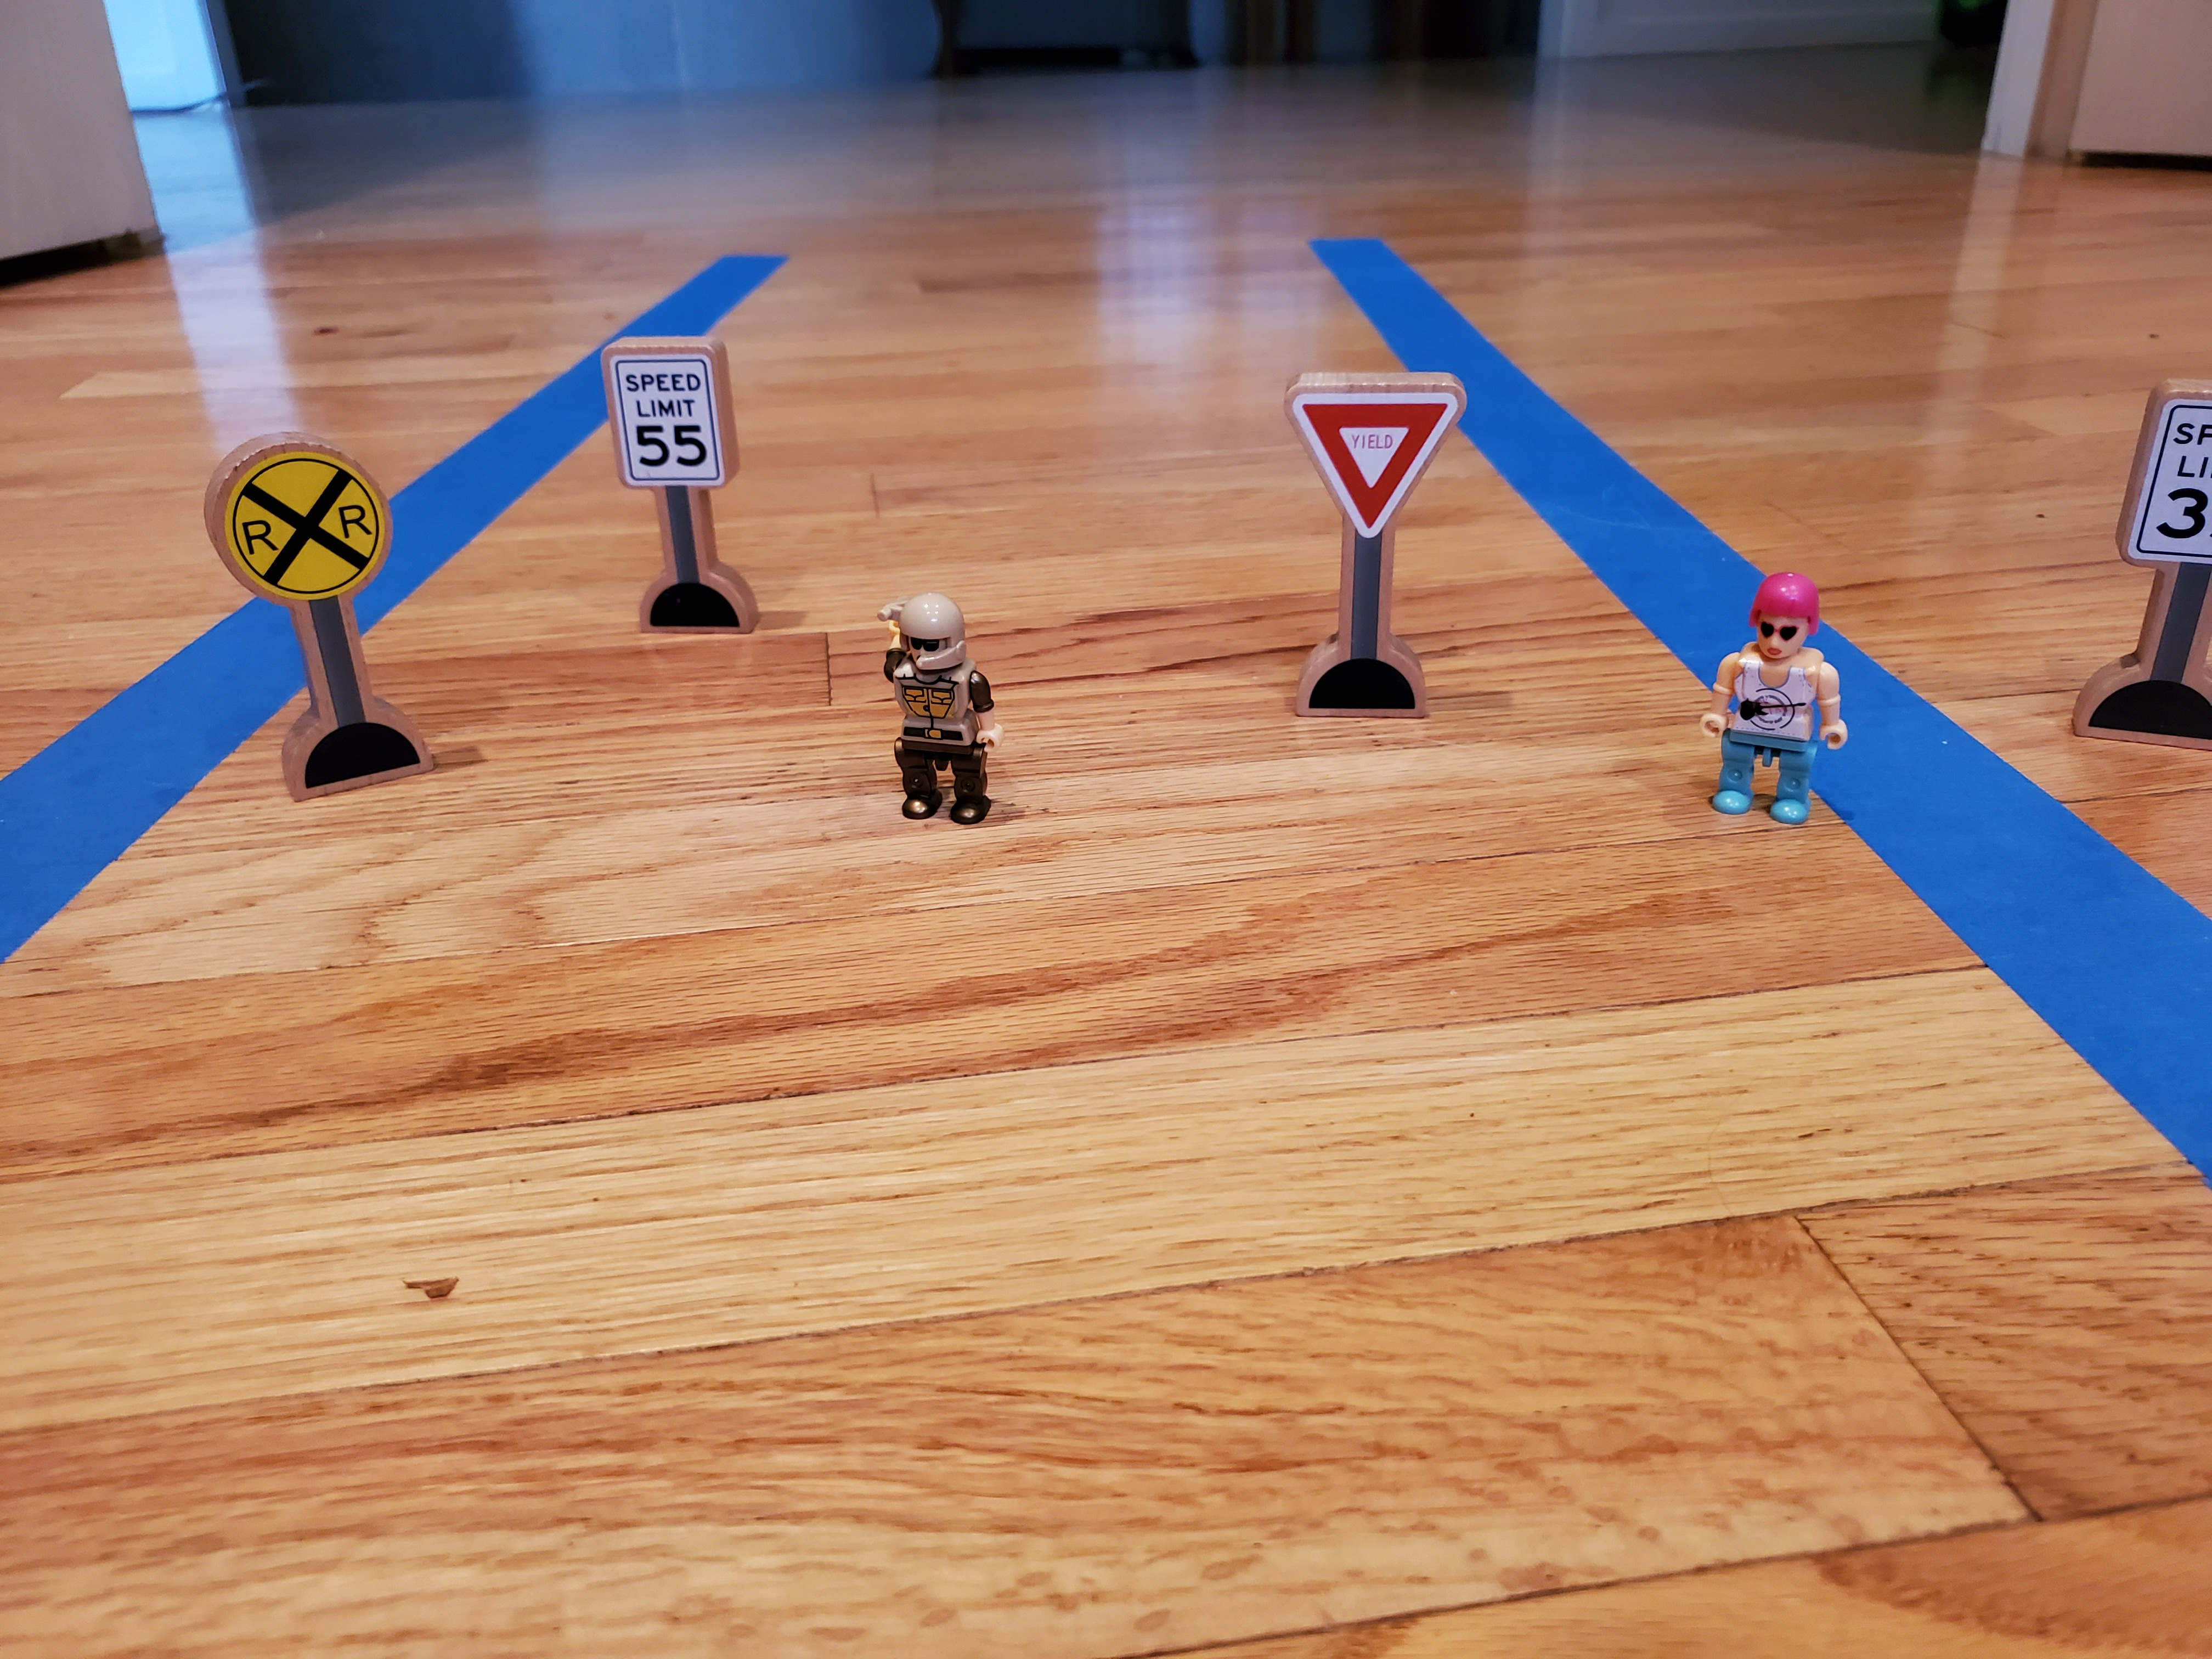Railroad Crossing: (202, 430, 416, 607)
Speed Limit 55: (592, 331, 749, 506)
Yield Sign: (1284, 366, 1468, 546)
person: (1697, 567, 1848, 832), (872, 579, 1003, 828)
